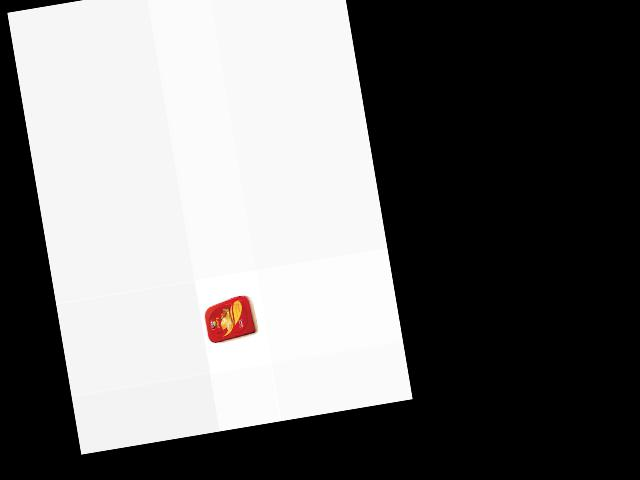cheese: (199, 294, 259, 346)
